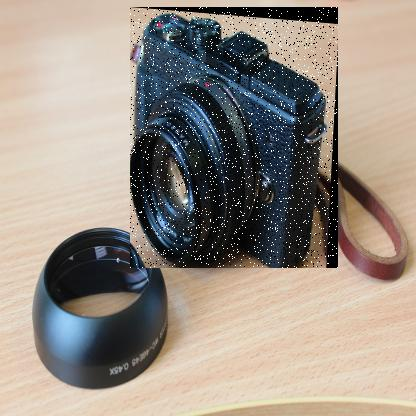Camera: (131, 8, 340, 270)
